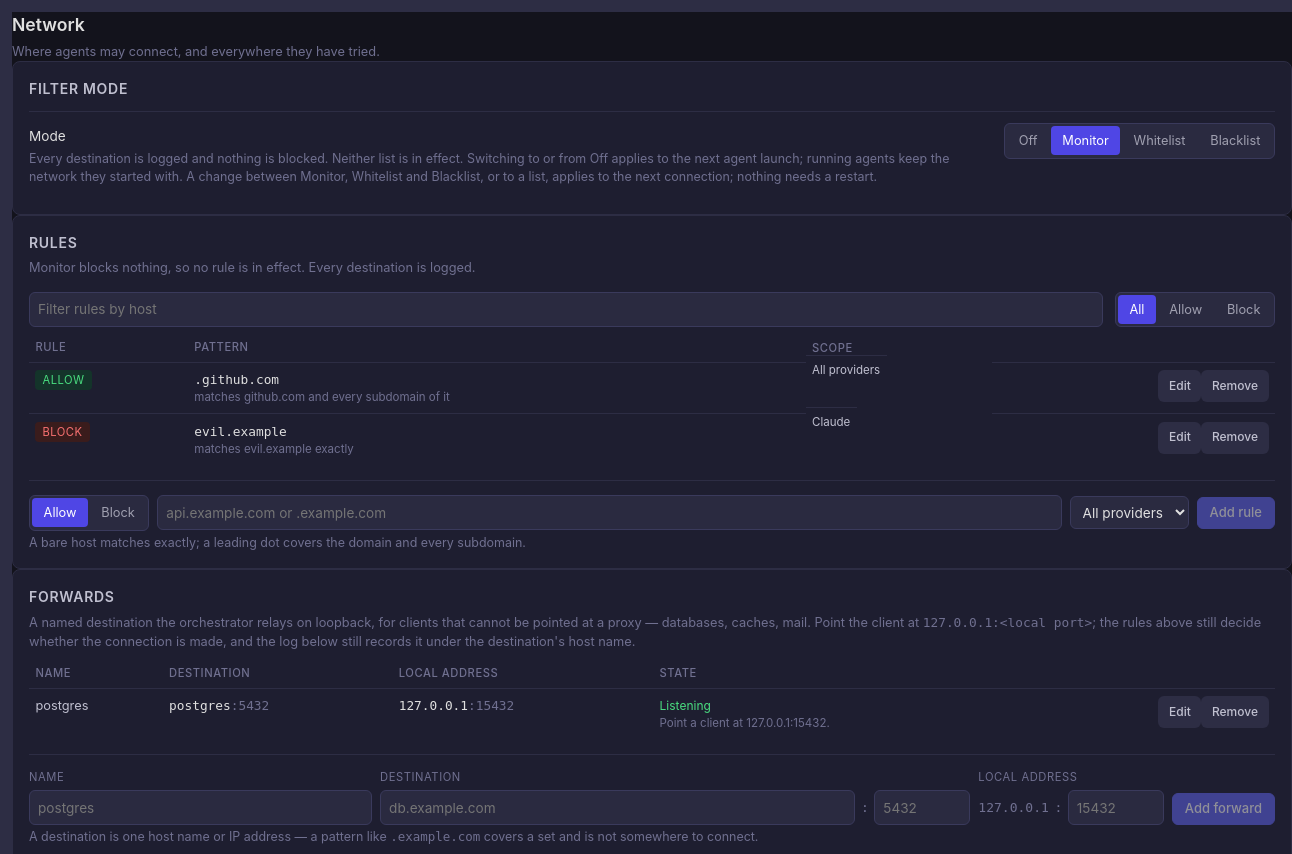
Test: Network settings › saves the mode and reverts when the save fails
Click the button "Whitelist": x=1160, y=141 [1122, 126, 1197, 155]
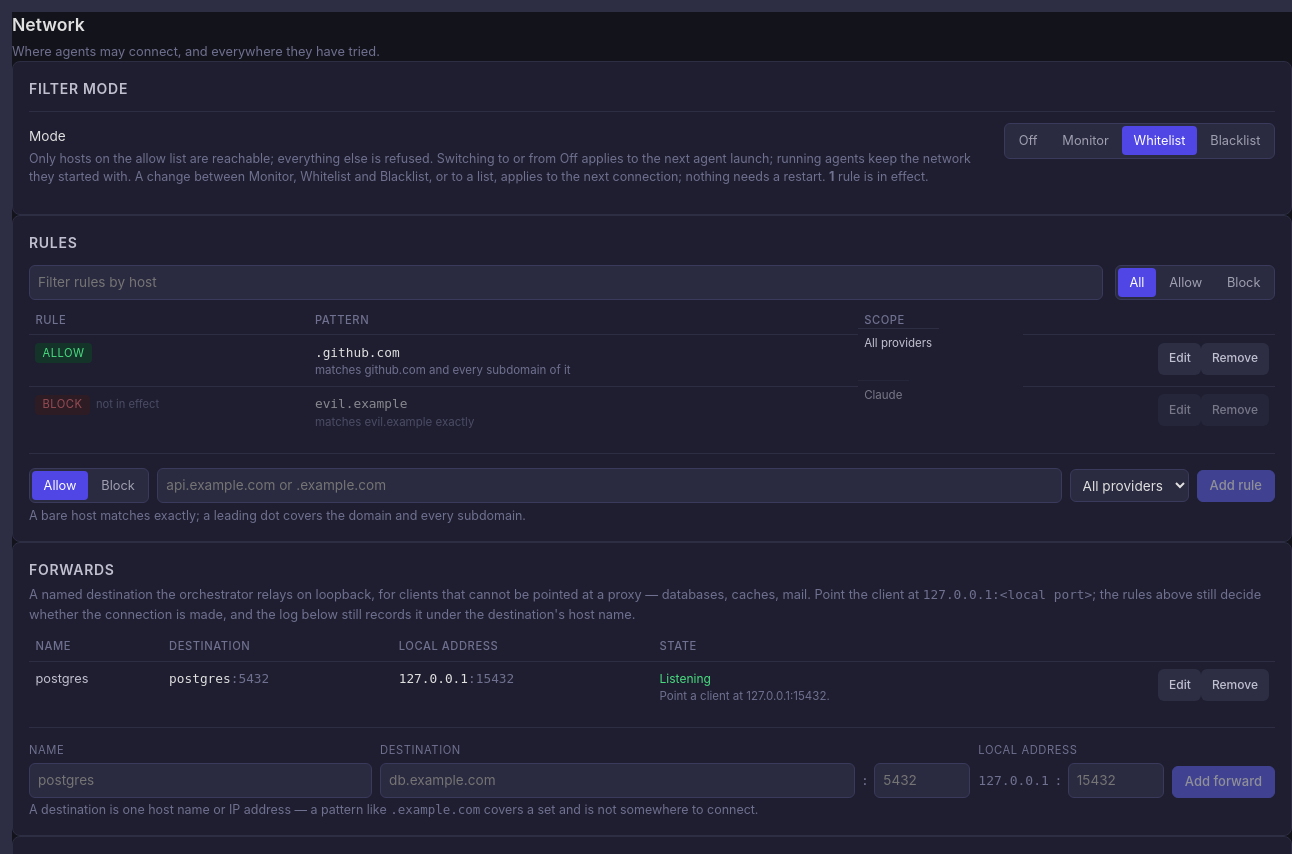
Expected: the button "Whitelist" is pressed, [1122, 126, 1197, 155]
Click the button "Blacklist": x=1235, y=141 [1199, 126, 1272, 155]
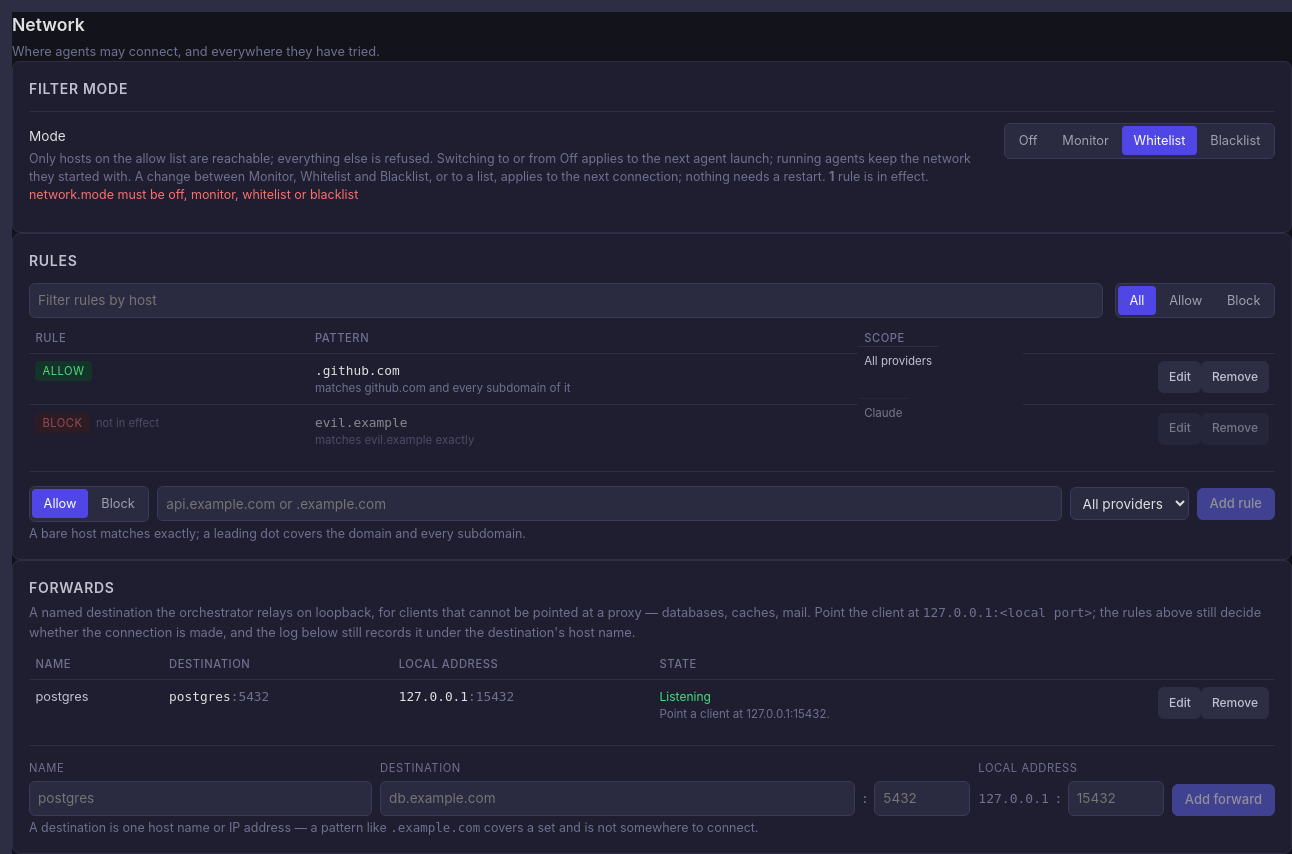
Expected: the text "network.mode must be off, monitor, whitelist or blacklist" is shown, [29, 187, 358, 202]
